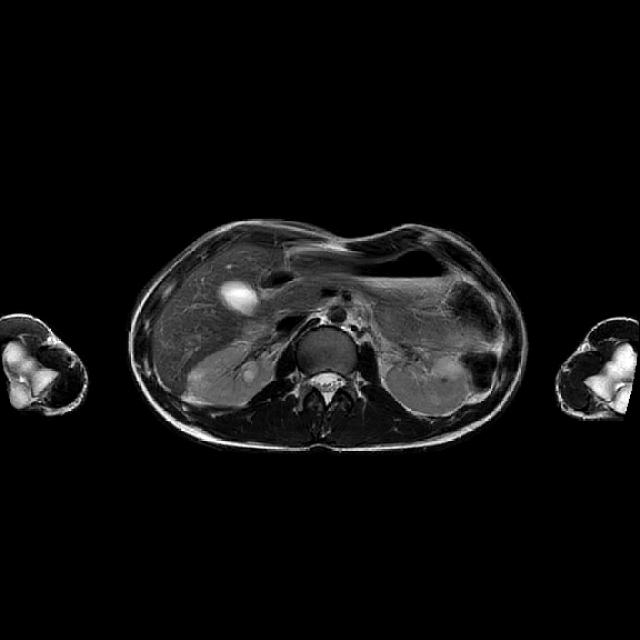sag: (186, 340, 272, 408)
sol: (383, 353, 471, 415)
